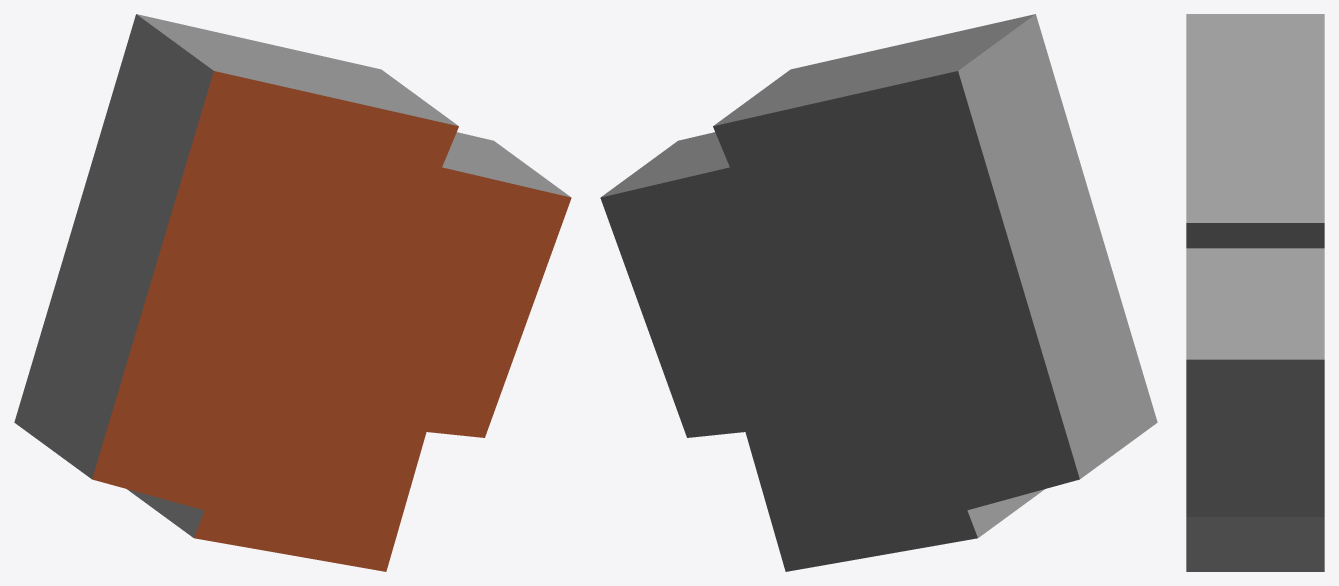
File: construction_3958_assumed_A_Casa_h6m.obj
The picture shows the model from 3 angles, left to right: view 1: azimuth 30°, elevation 25°; view 2: azimuth 150°, elevation 25°; view 3: azimuth 270°, elevation 25°; orthographic projection. The views are drawn at different scales.
Parts seen in each view (by area): view 1: construction_3958_assumed_A_Casa; view 2: construction_3958_assumed_A_Casa; view 3: construction_3958_assumed_A_Casa.
Part boxes in pixels (x1,y1,x2,y2): construction_3958_assumed_A_Casa: (14,14,571,571); construction_3958_assumed_A_Casa: (600,14,1157,571); construction_3958_assumed_A_Casa: (1186,14,1324,571).
Size of the model in its own units: 21.37 by 23.12 by 6.
